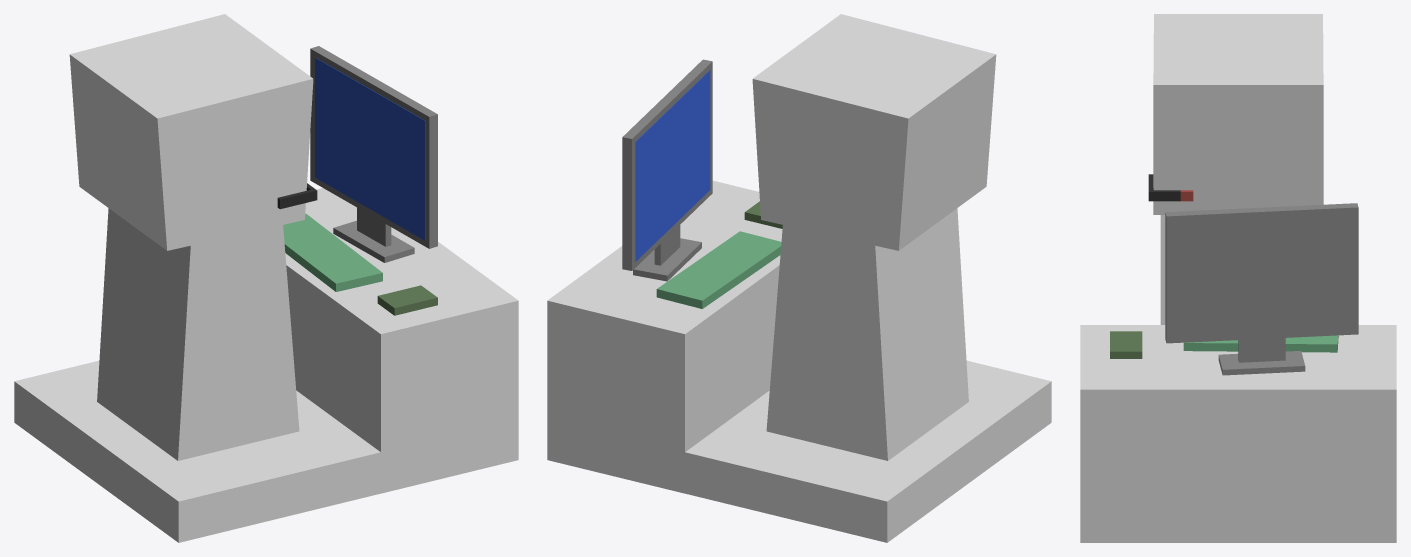
File: Emitter001.fbx
The picture shows the model from 3 angles, left to right: view 1: azimuth 30°, elevation 25°; view 2: azimuth 150°, elevation 25°; view 3: azimuth 270°, elevation 25°; orthographic projection. The views are drawn at different scales.
Visible parts, largest first — view 1: Cube.001, Cube.006, Cube.002, Cube, Cube.011, Cube.003, Cube.008, Cube.005, Cube.007, Cube.004; view 2: Cube.001, Cube.006, Cube.002, Cube, Cube.011, Cube.008, Cube.003, Cube.005, Cube.004; view 3: Cube.006, Cube.001, Cube.003, Cube.008, Cube.005, Cube.004, Cube.007, Cube.002, Cube.009.
Boxes of the visible parts, x1,y1,x2,y2 form: Cube.001: (69, 14, 313, 250); Cube.006: (285, 188, 518, 492); Cube.002: (97, 208, 299, 460); Cube: (14, 360, 383, 542); Cube.011: (315, 57, 425, 240); Cube.003: (310, 46, 437, 248); Cube.008: (283, 213, 382, 291); Cube.005: (333, 220, 414, 262); Cube.007: (377, 285, 437, 315); Cube.004: (357, 207, 391, 246); Cube.001: (752, 14, 996, 250); Cube.006: (547, 180, 782, 492); Cube.002: (766, 208, 968, 460); Cube: (682, 360, 1051, 542); Cube.011: (635, 70, 710, 261); Cube.008: (656, 231, 781, 308); Cube.003: (622, 59, 712, 270); Cube.005: (633, 238, 701, 281); Cube.004: (654, 225, 680, 265); Cube.006: (1080, 325, 1396, 542); Cube.001: (1153, 14, 1323, 214); Cube.003: (1165, 203, 1358, 343); Cube.008: (1183, 335, 1338, 352); Cube.005: (1218, 351, 1305, 375); Cube.004: (1238, 338, 1285, 362); Cube.007: (1110, 331, 1142, 358); Cube.002: (1160, 215, 1165, 324); Cube.009: (1148, 190, 1180, 201).
Bounding box in the file's own units: 239 × 265 × 200.
